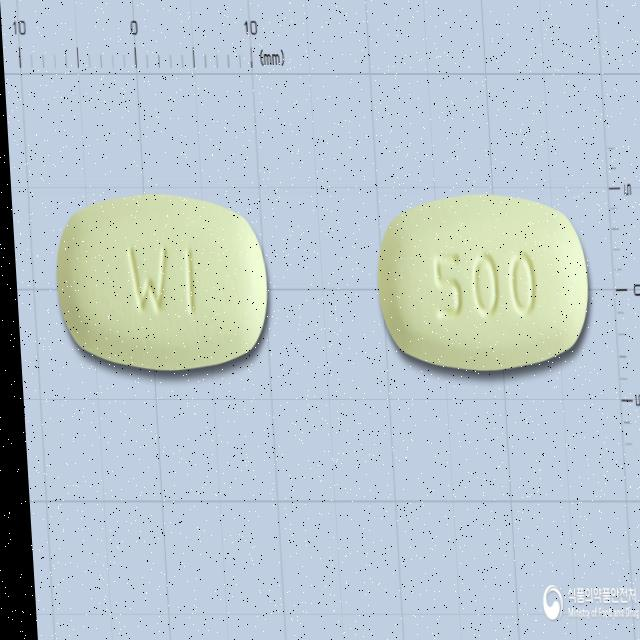Cefixime Cap- Reyon: (49, 195, 269, 372), (370, 196, 590, 371)
